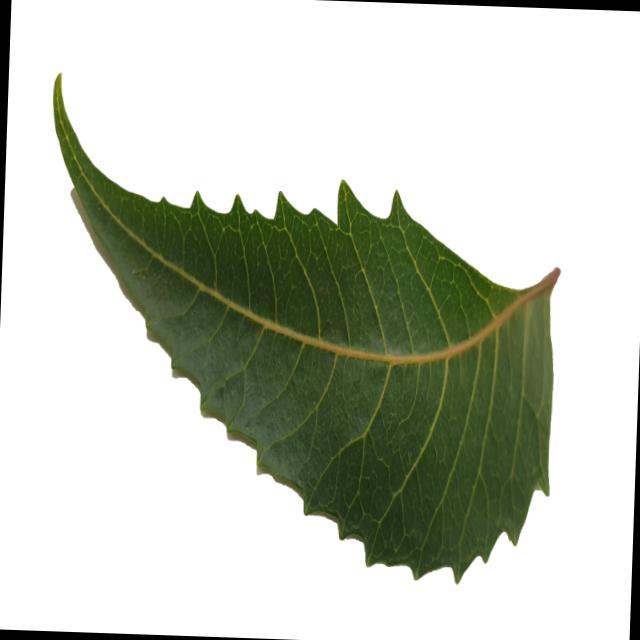Medicinal-Neem: (34, 68, 566, 584)
